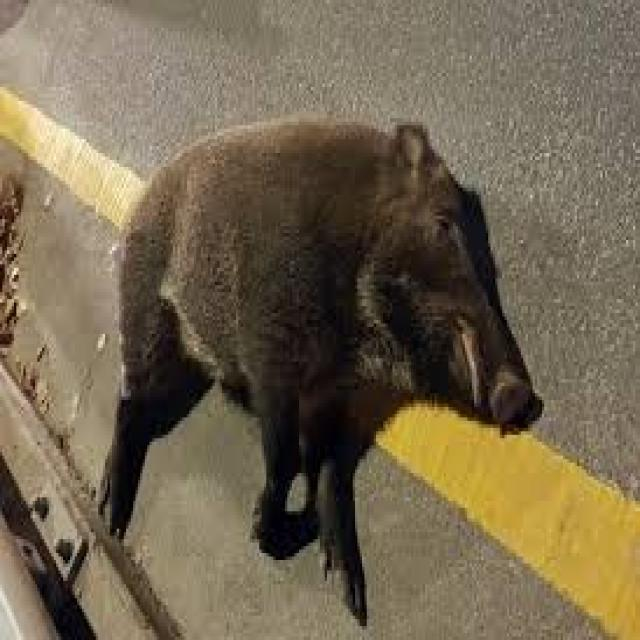boar: (71, 97, 535, 634)
